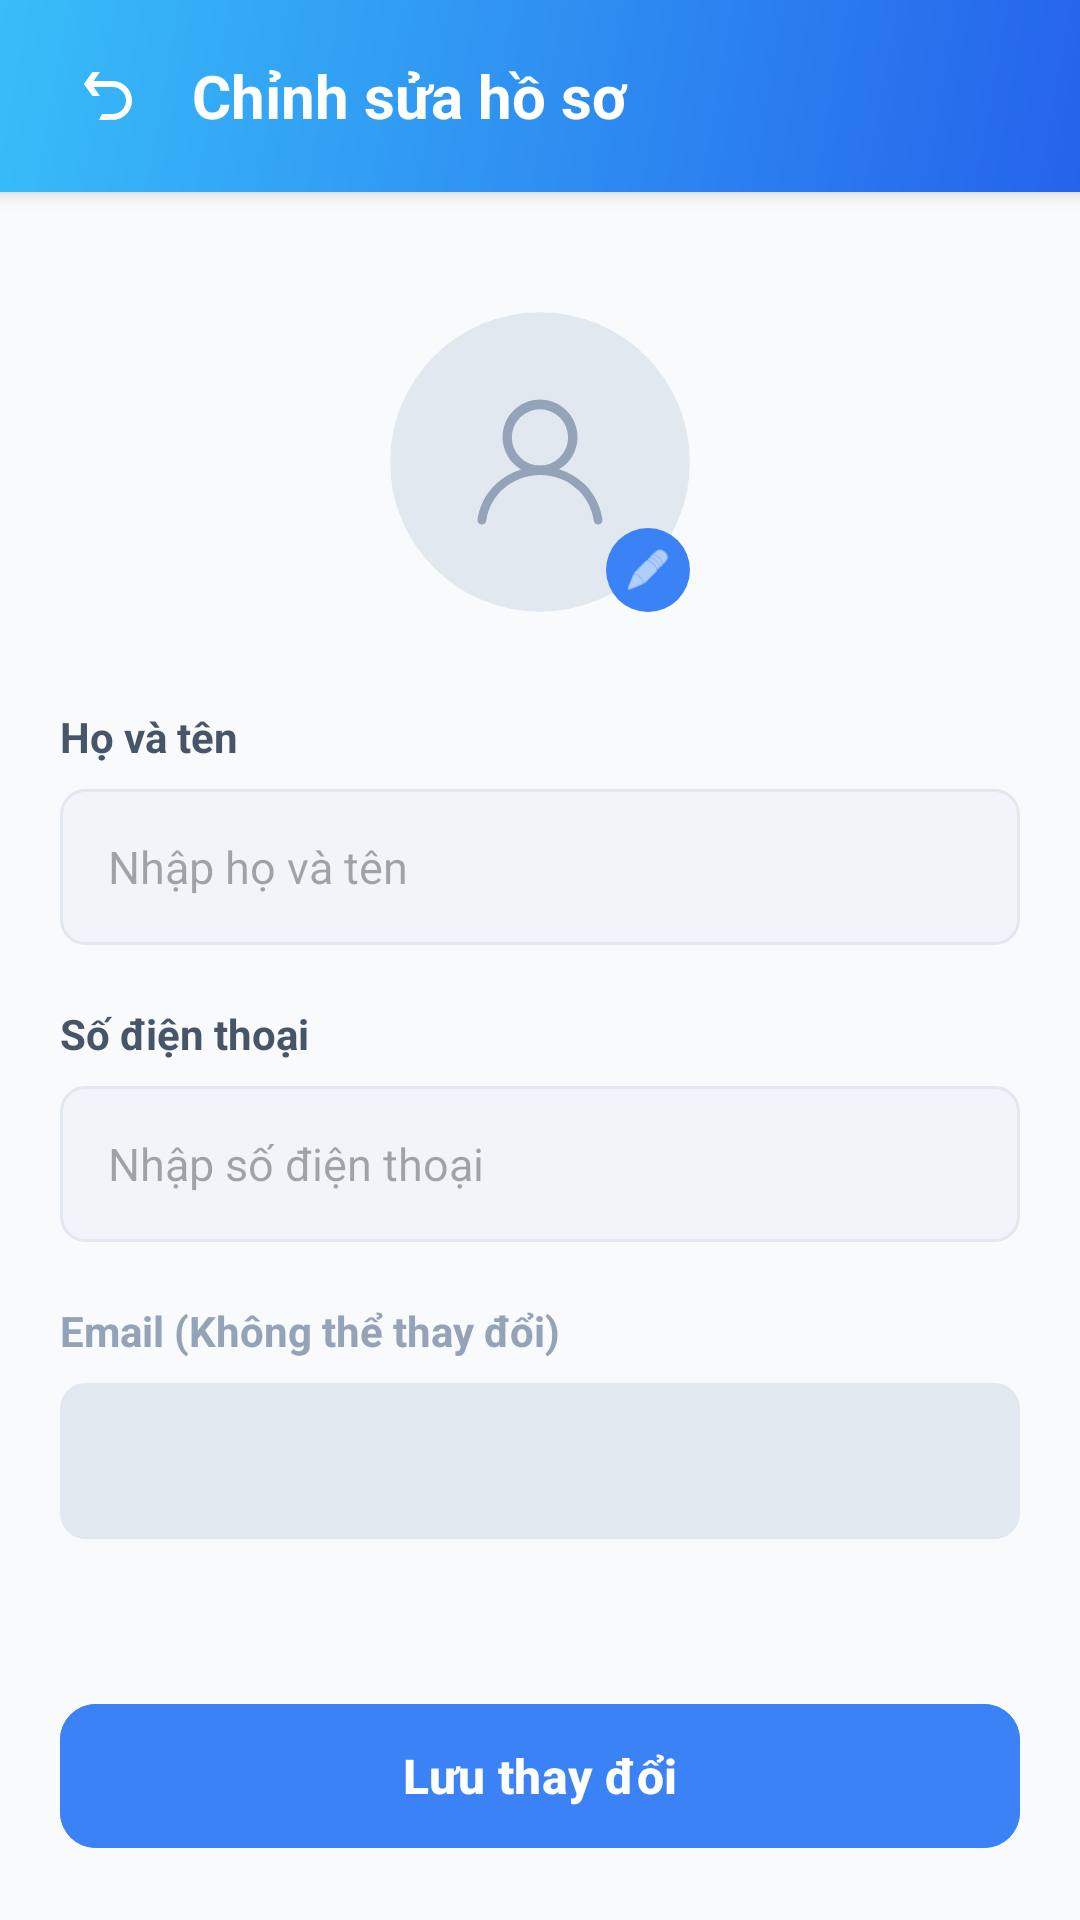

Named icons in this screenshot (1080×1920) and their centers, (x=x, y=y):
back custom: (x=108, y=96)
edit: (x=648, y=570)
